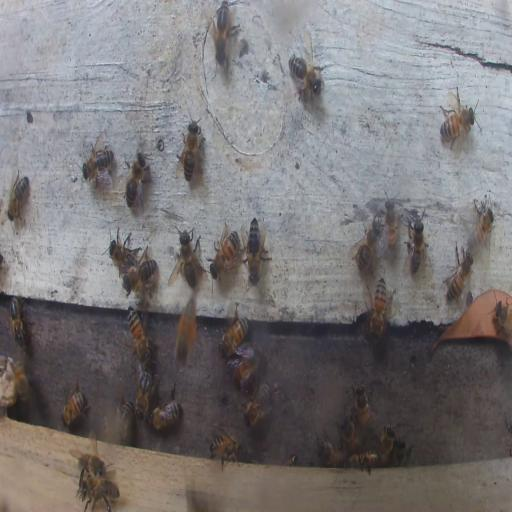nonpollenbee: (287, 40, 325, 102), (80, 134, 115, 188), (172, 225, 202, 287), (176, 112, 202, 182), (244, 214, 270, 284), (210, 226, 242, 278), (445, 244, 473, 302), (124, 151, 150, 212), (438, 100, 476, 141), (350, 220, 378, 274), (402, 212, 426, 274), (368, 273, 389, 343), (106, 227, 138, 272), (80, 476, 120, 511), (208, 430, 242, 470), (128, 308, 152, 364), (212, 2, 231, 72), (220, 312, 248, 359), (148, 395, 182, 432), (124, 257, 156, 296), (244, 382, 271, 428), (62, 380, 88, 427), (8, 170, 30, 223), (469, 201, 494, 247), (136, 365, 156, 420), (232, 351, 260, 388), (354, 382, 375, 431), (382, 196, 398, 254), (316, 437, 346, 466), (12, 353, 29, 404), (491, 300, 510, 341), (378, 424, 396, 462), (78, 452, 104, 478), (340, 416, 359, 451), (11, 295, 24, 345), (117, 400, 132, 442), (348, 451, 379, 471), (393, 440, 413, 465), (284, 452, 296, 466)
pollenbee: (174, 293, 198, 366)
